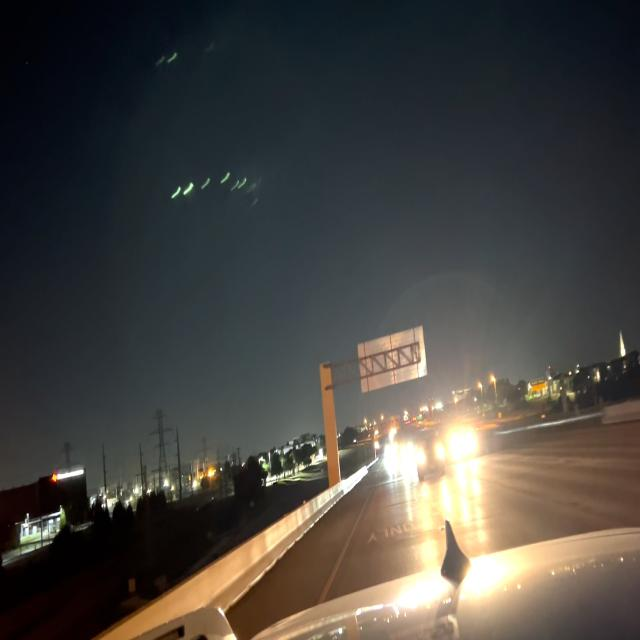back-of-sign: (359, 330, 427, 402)
